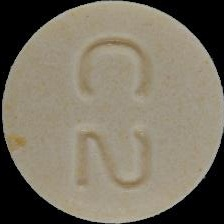0378-3002: (0, 0, 224, 224)
